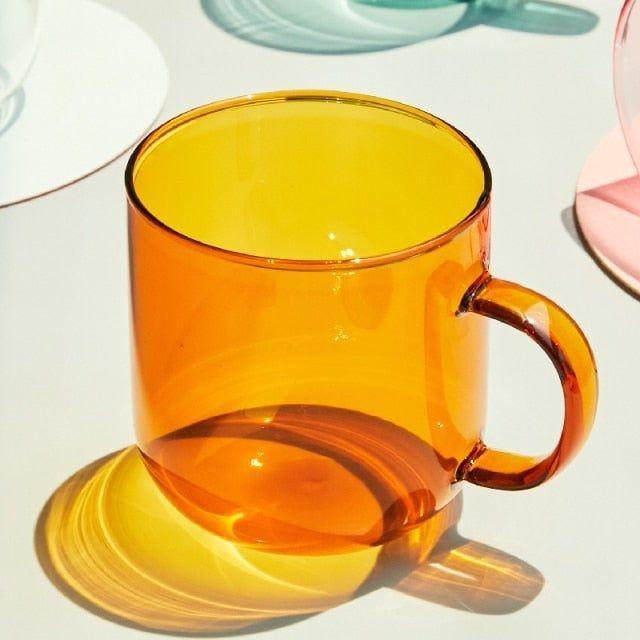glass-mug: (112, 72, 610, 560)
